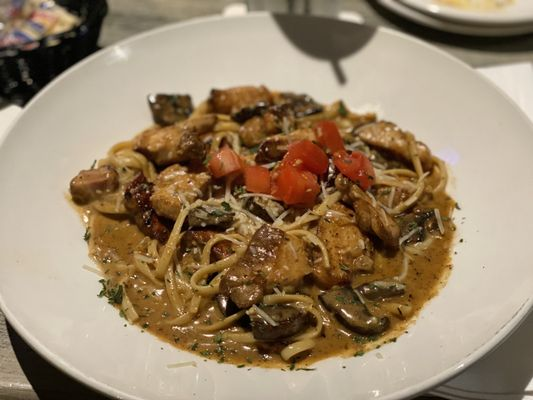salad: (269, 11, 380, 86)
sushi: (0, 9, 521, 400)
